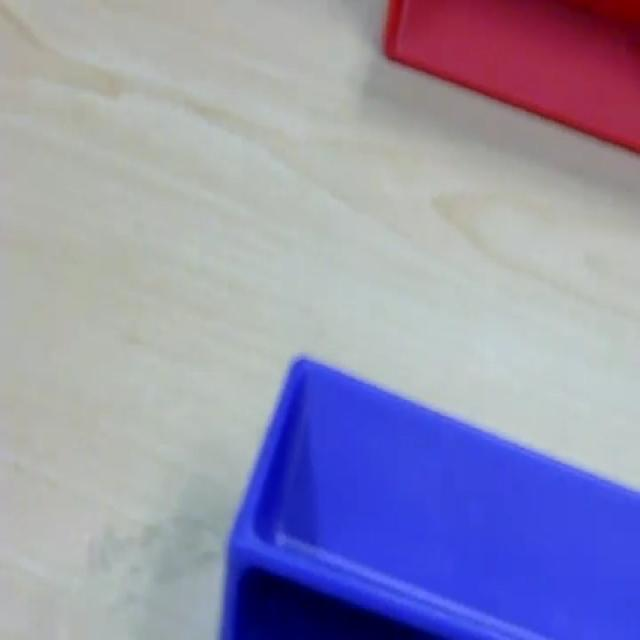blue_block: (219, 351, 639, 637)
red_block: (381, 0, 638, 153)
